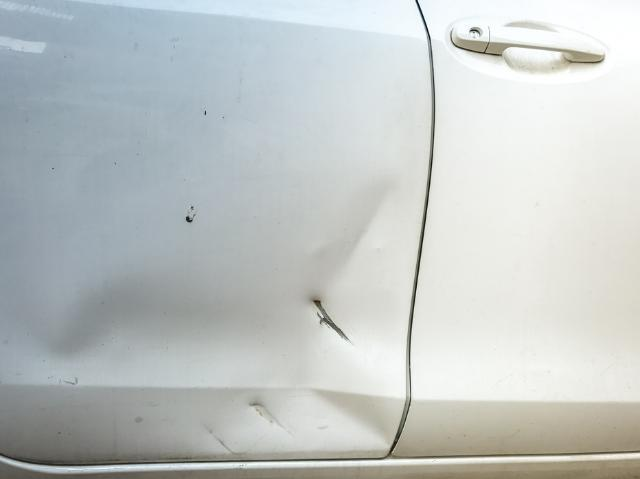Door: (155, 137, 462, 458)
